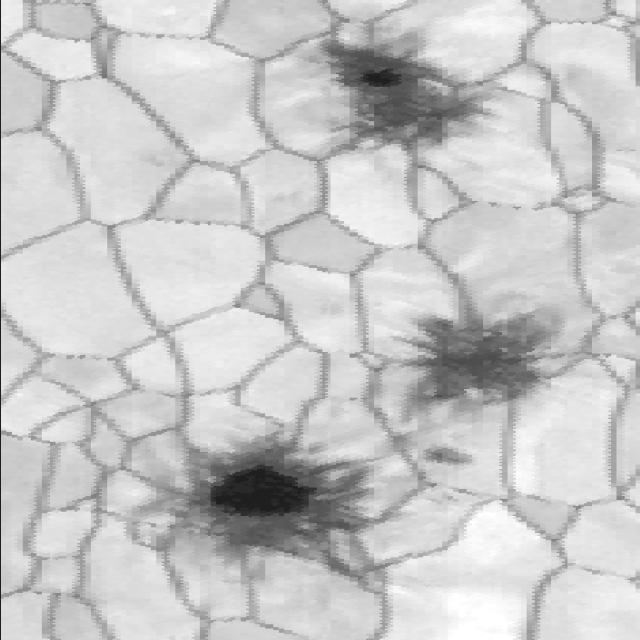good_void: (177, 437, 393, 576), (351, 309, 577, 426), (310, 28, 495, 159), (415, 438, 472, 469), (422, 491, 462, 511), (137, 517, 164, 532), (342, 393, 361, 406)
